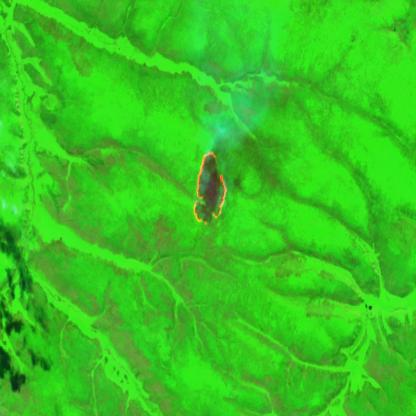fire: (191, 148, 229, 228)
